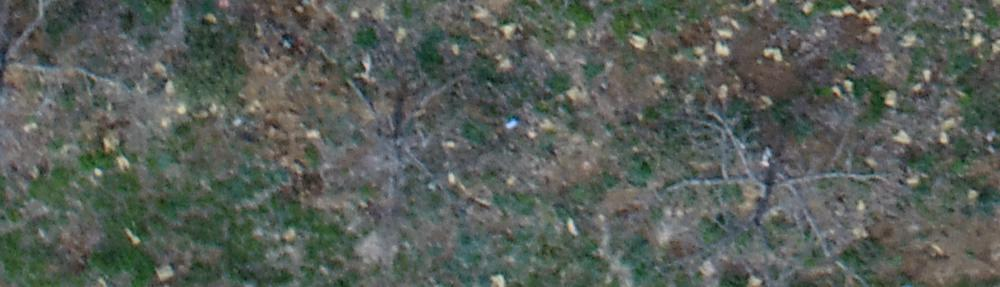apple: (649, 83, 882, 277), (308, 49, 504, 227)
